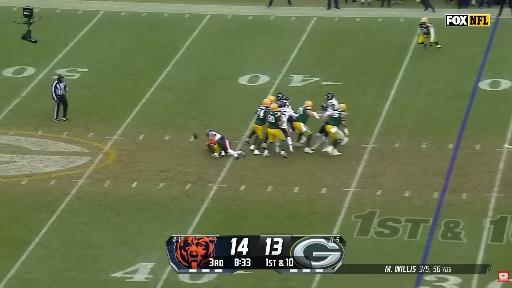Helmet: (276, 93, 284, 101), (262, 99, 271, 106), (266, 96, 275, 103), (326, 93, 334, 100), (271, 104, 278, 111), (305, 100, 312, 107), (321, 103, 327, 111), (278, 101, 286, 107), (283, 97, 290, 103), (207, 130, 213, 137), (340, 104, 346, 110), (422, 18, 427, 22)
Jersey: (280, 107, 297, 128), (326, 109, 342, 126), (295, 106, 311, 123), (255, 105, 268, 125), (267, 111, 281, 129), (419, 23, 432, 35), (327, 98, 339, 110), (209, 132, 222, 140)
Player: (292, 101, 319, 153), (324, 104, 348, 155), (250, 99, 270, 154), (206, 130, 244, 158), (267, 104, 287, 157), (278, 100, 297, 152), (418, 18, 441, 48), (311, 121, 328, 151), (256, 96, 275, 117), (326, 93, 339, 109), (276, 93, 290, 107), (276, 93, 285, 102)
